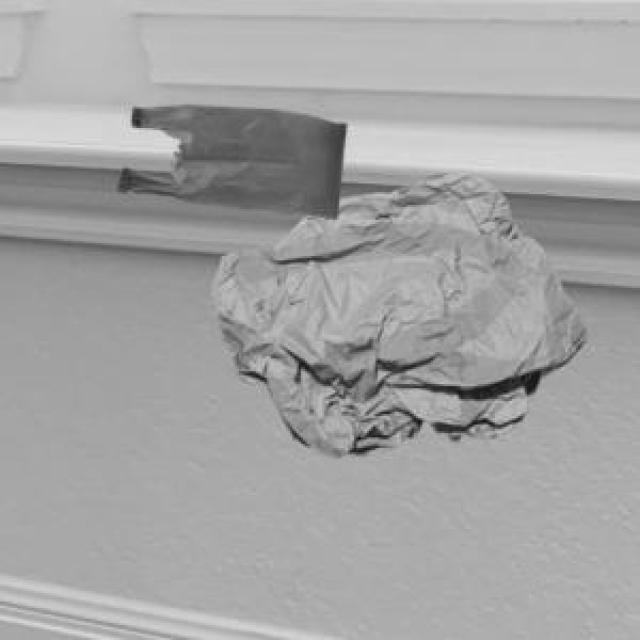paper: (205, 169, 582, 452)
